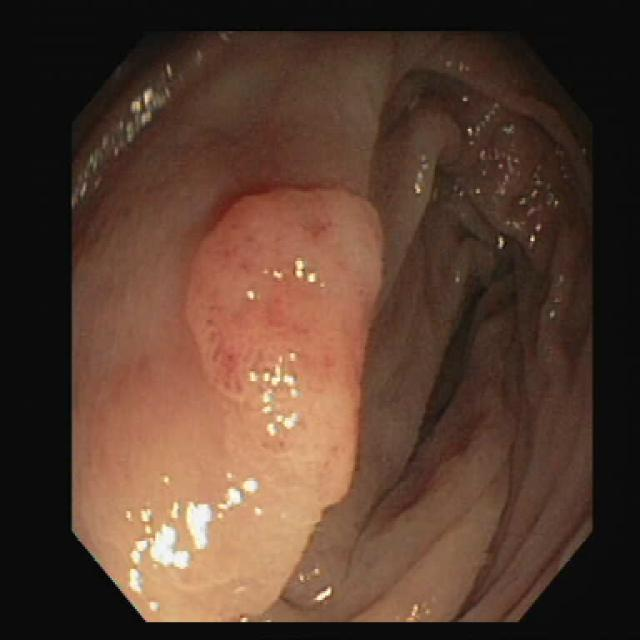tumor: (187, 189, 380, 484)
